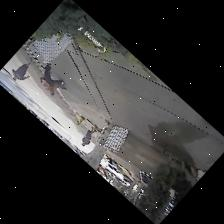person: (40, 66, 64, 94), (11, 59, 31, 79), (82, 126, 95, 144)
